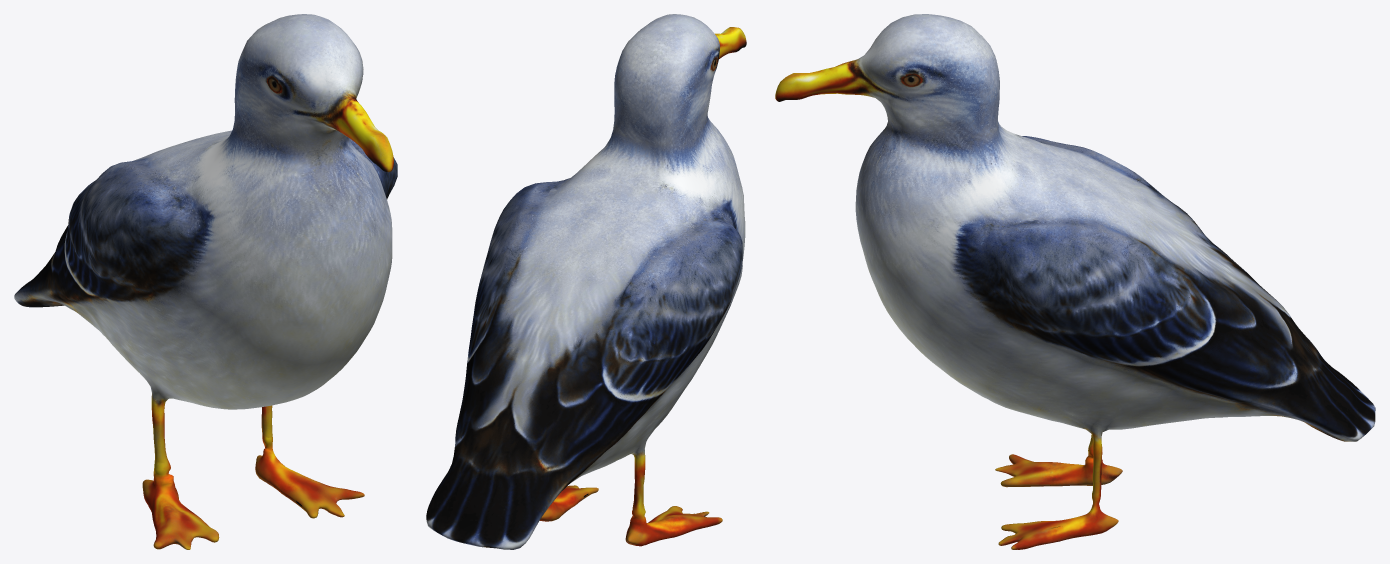
The model's file is uploads_files_5014600_Seagull_Quad.fbx.
The picture shows the model from 3 angles, left to right: view 1: azimuth 30°, elevation 25°; view 2: azimuth 150°, elevation 25°; view 3: azimuth 270°, elevation 25°; orthographic projection. The views are drawn at different scales.
Visible parts, largest first — view 1: Seagull_Quad; view 2: Seagull_Quad; view 3: Seagull_Quad.
Boxes of the visible parts, x1,y1,x2,y2 form: Seagull_Quad: (14,14,397,549); Seagull_Quad: (426,14,746,549); Seagull_Quad: (775,14,1375,549).
Bounding box in the file's own units: 19.1 × 35 × 38.53.
